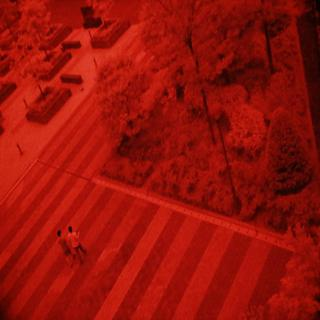person: (50, 223, 72, 266), (66, 219, 86, 260)
